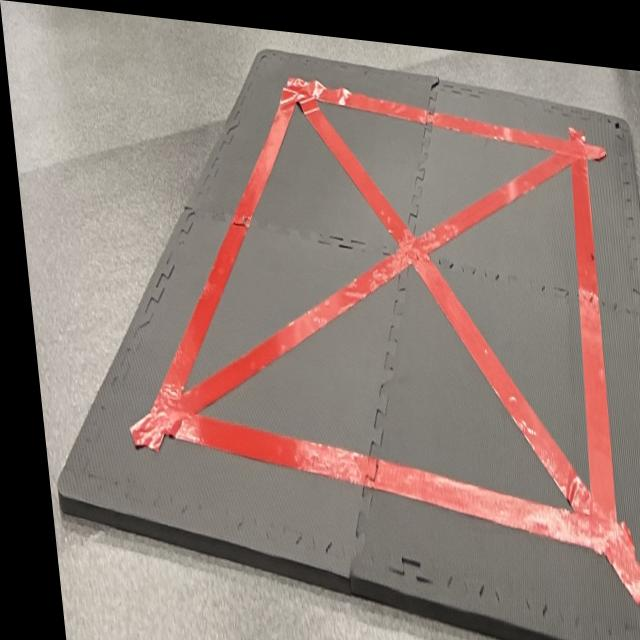landingPads: (10, 22, 640, 640)
